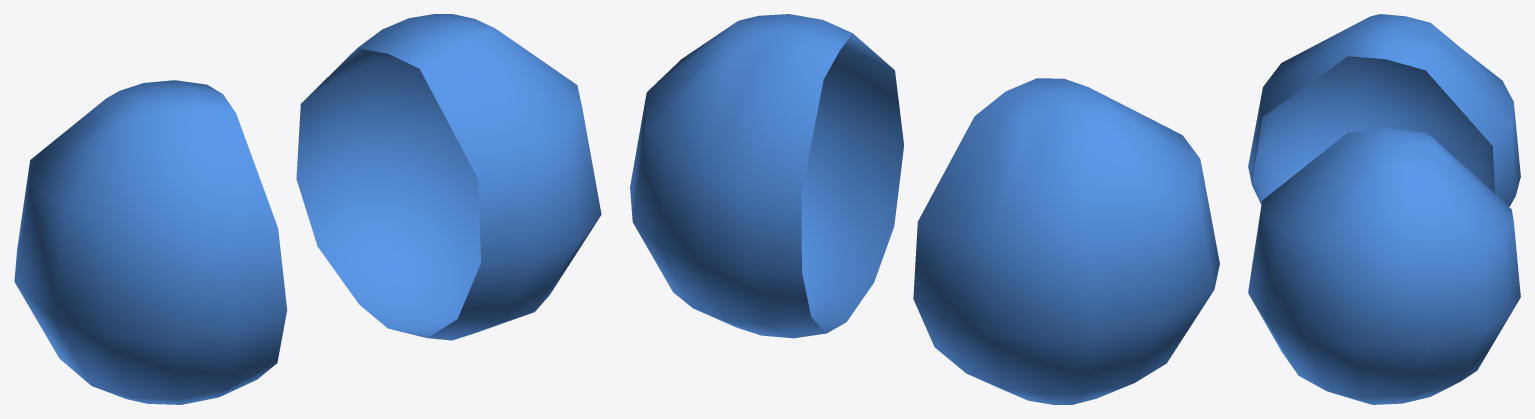
Rendered from Shrimp_Eye_Cherry.fbx.
The picture shows the model from 3 angles, left to right: view 1: azimuth 30°, elevation 25°; view 2: azimuth 150°, elevation 25°; view 3: azimuth 270°, elevation 25°; orthographic projection. The views are drawn at different scales.
Visible parts, largest first — view 1: Eye_low; view 2: Eye_low; view 3: Eye_low.
Boxes of the visible parts, x1,y1,x2,y2 form: Eye_low: (14,14,601,404); Eye_low: (630,14,1219,404); Eye_low: (1248,14,1520,404).
Bounding box in the file's own units: 25.27 × 13.12 × 12.92.
